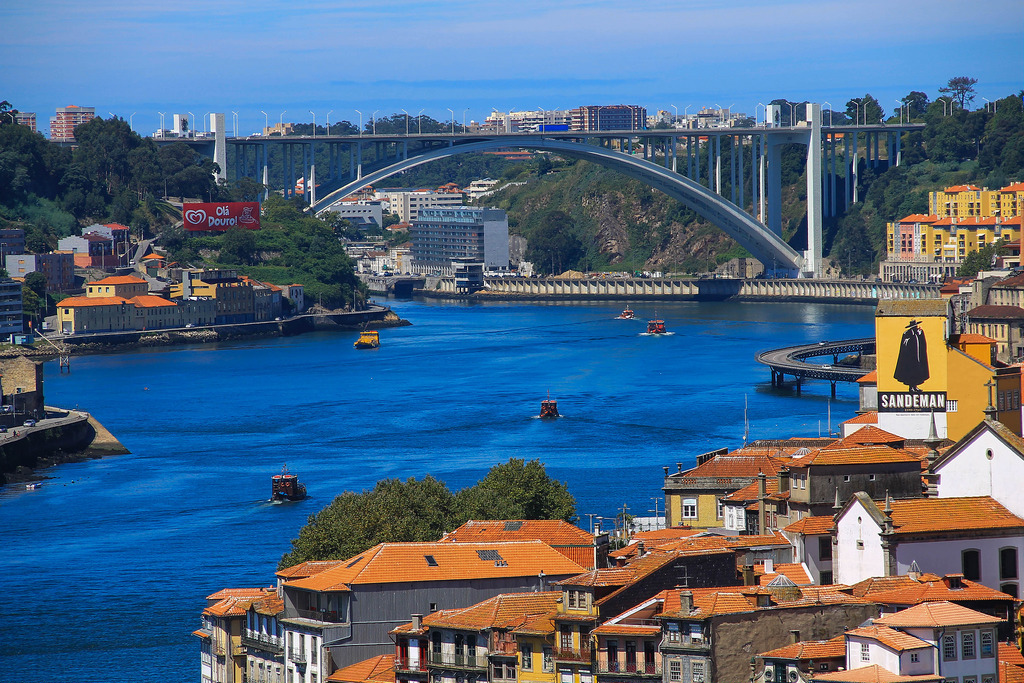arrabida: (152, 101, 928, 281)
